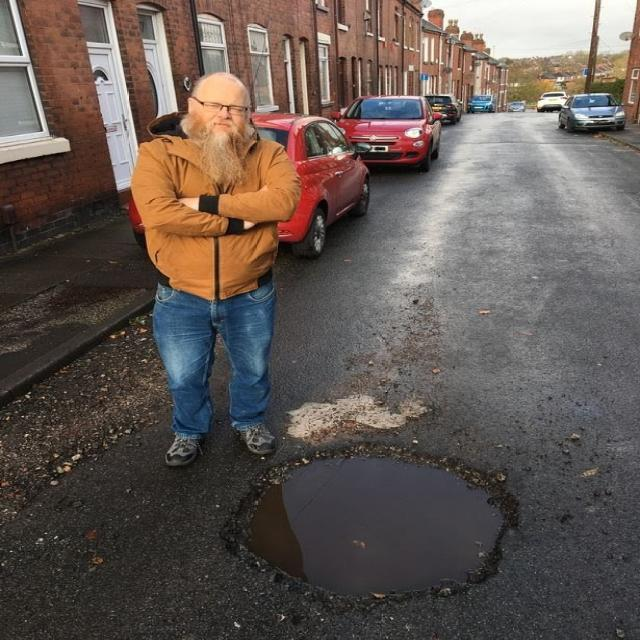pothole: (215, 436, 526, 604)
